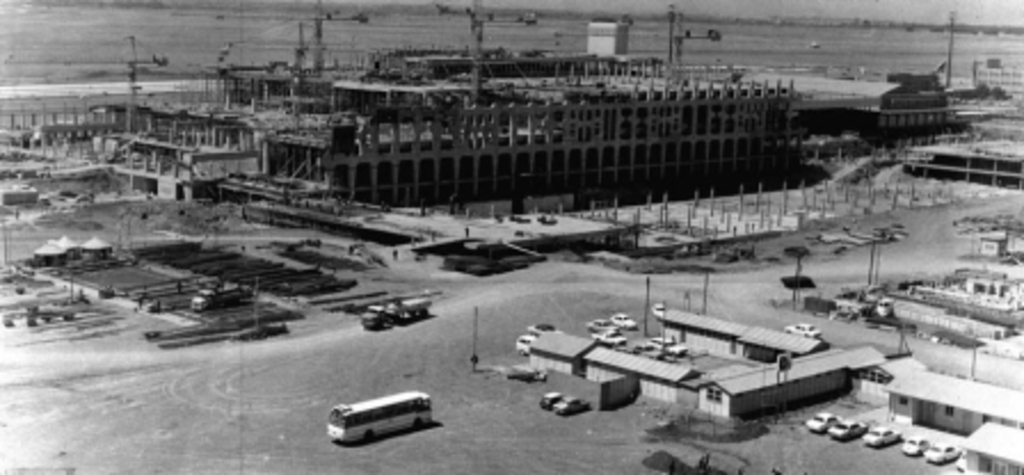Bus: (326, 388, 432, 447)
